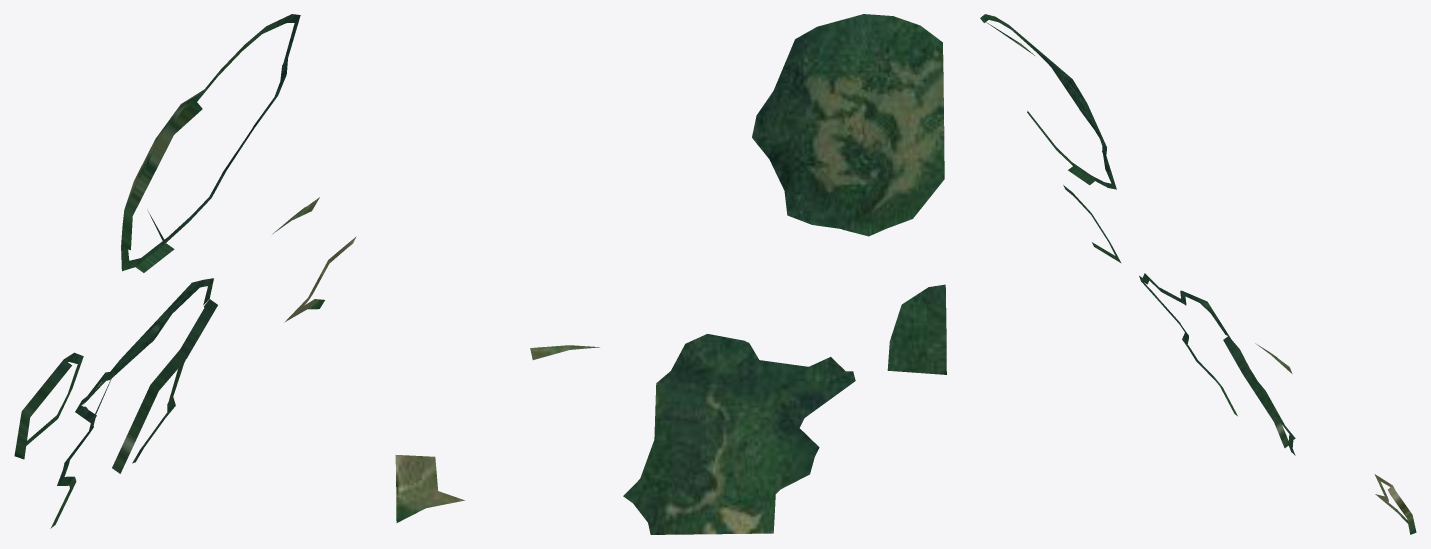
The picture shows the model from 3 angles, left to right: view 1: azimuth 30°, elevation 25°; view 2: azimuth 150°, elevation 25°; view 3: azimuth 270°, elevation 25°; orthographic projection. The views are drawn at different scales.
Bounding box in the file's own units: 1838 × 1898 × 1872.
1 material, 1 textured.
